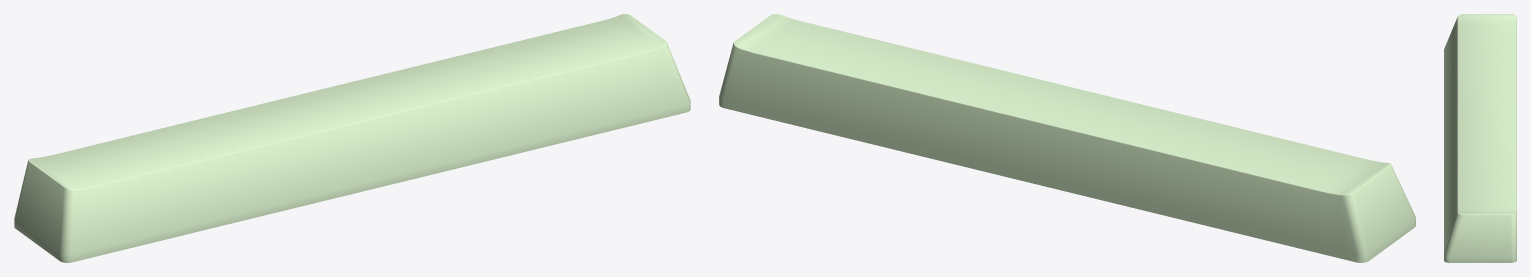
The model's file is space.glb.
3 views of the same model, side by side, from view 1: azimuth 30°, elevation 25°; view 2: azimuth 150°, elevation 25°; view 3: azimuth 270°, elevation 25° (orthographic). The views are drawn at different scales.
Visible parts, largest first — view 1: keycap_space.001; view 2: keycap_space.001; view 3: keycap_space.001.
Boxes of the visible parts, box(x1,y1,x2,y2) form: keycap_space.001: box(14, 14, 690, 262); keycap_space.001: box(719, 14, 1415, 262); keycap_space.001: box(1444, 14, 1516, 262).
Size of the model in its own units: 0.1229 by 0.0118 by 0.018.
